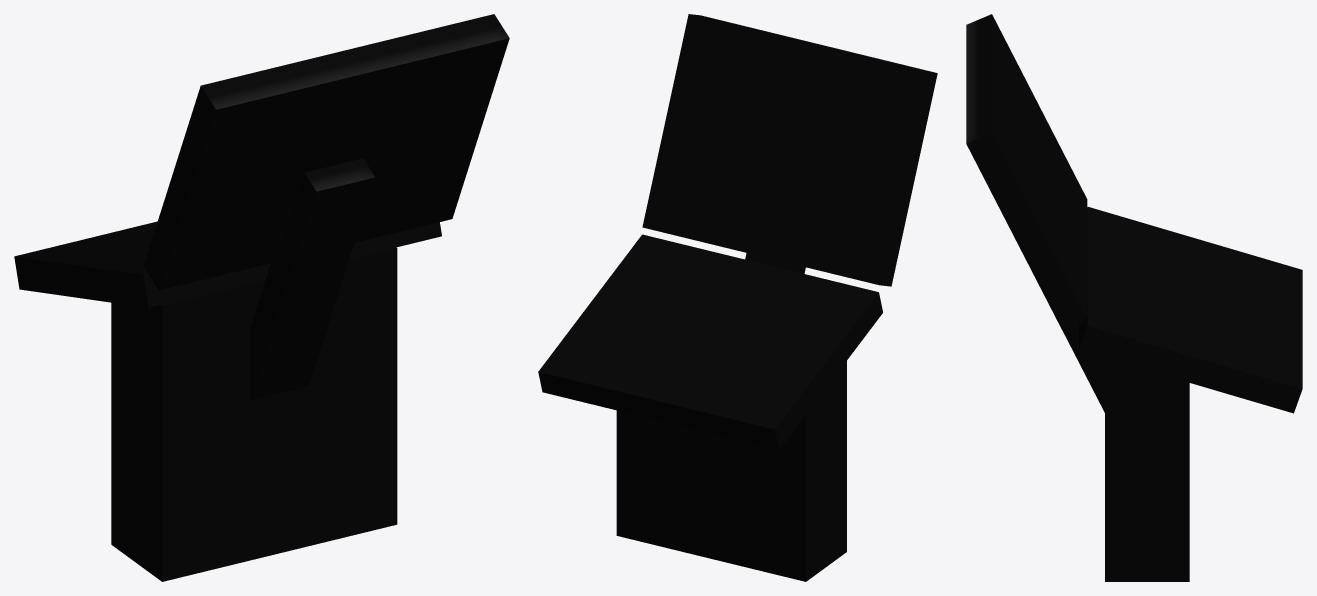
The model's file is screen_tier_3.obj.
The picture shows the model from 3 angles, left to right: view 1: azimuth 30°, elevation 25°; view 2: azimuth 150°, elevation 25°; view 3: azimuth 270°, elevation 25°; orthographic projection. The views are drawn at different scales.
Visible parts, largest first — view 1: Shape27, Shape30, Shape31, Shape29; view 2: Shape30, Shape29, Shape27; view 3: Shape29, Shape30, Shape27, Shape31.
Part boxes in pixels (<box>): Shape27: <box>111,247,397,581</box>; Shape30: <box>143,14,509,290</box>; Shape31: <box>250,158,375,400</box>; Shape29: <box>14,221,441,307</box>; Shape30: <box>642,14,937,286</box>; Shape29: <box>538,234,882,449</box>; Shape27: <box>616,361,846,581</box>; Shape29: <box>1079,207,1302,413</box>; Shape30: <box>966,14,1087,329</box>; Shape27: <box>1105,358,1189,581</box>; Shape31: <box>1062,322,1104,412</box>.
Bounding box in the file's own units: 0.625 × 1.12 × 0.7441.
